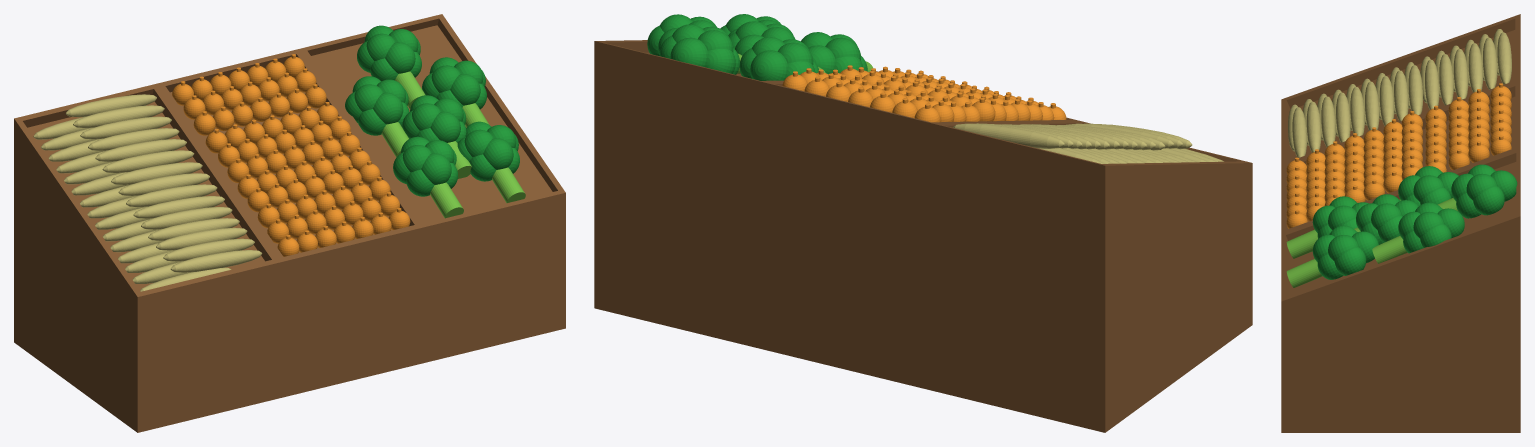
The model's file is fruit krat.fbx.
3 views of the same model, side by side, from view 1: azimuth 30°, elevation 25°; view 2: azimuth 150°, elevation 25°; view 3: azimuth 270°, elevation 25° (orthographic). The views are drawn at different scales.
Visible parts, largest first — view 1: Cube, Cylinder.029, Cylinder, brogle, brogle.001, brogle.003, brogle.005, brogle.002, brogle.004, Sphere.077, Sphere.055, Sphere.054 (+5 smaller); view 2: Cube, Cylinder.029, brogle.005, brogle.003, Sphere.077, Cylinder, brogle, Sphere.055, brogle.002, brogle.004; view 3: Cube, Cylinder.029, brogle.001, brogle.004, brogle.005, Cylinder, brogle, brogle.002, brogle.003, Sphere.077, Sphere.054, Sphere.055 (+8 smaller).
Part boxes in pixels (box(x1,y1,x2,y2)): Cube: box(14, 14, 565, 432); Cylinder.029: box(65, 94, 262, 272); Cylinder: box(33, 117, 231, 291); brogle: box(393, 136, 463, 218); brogle.001: box(457, 121, 525, 202); brogle.003: box(345, 76, 409, 157); brogle.005: box(357, 25, 425, 108); brogle.002: box(402, 95, 471, 178); brogle.004: box(422, 57, 488, 127); Sphere.077: box(172, 54, 304, 105); Sphere.055: box(183, 95, 259, 198); Sphere.054: box(202, 90, 278, 193); Cube: box(594, 40, 1252, 432); Cylinder.029: box(953, 123, 1192, 150); brogle.005: box(659, 24, 741, 74); brogle.003: box(739, 37, 825, 80); Sphere.077: box(782, 71, 940, 122); Cylinder: box(1040, 148, 1223, 163); brogle: box(801, 32, 872, 74); Sphere.055: box(932, 97, 1018, 122); brogle.002: box(729, 21, 795, 55); brogle.004: box(647, 14, 716, 55); Cube: box(1281, 14, 1520, 432); Cylinder.029: box(1292, 32, 1511, 157); brogle.001: box(1286, 225, 1378, 287); brogle.004: box(1372, 202, 1464, 263); brogle.005: box(1437, 164, 1517, 218); Cylinder: box(1288, 29, 1502, 151); brogle: box(1286, 196, 1368, 258); brogle.002: box(1354, 194, 1418, 244); brogle.003: box(1398, 166, 1458, 205); Sphere.077: box(1490, 83, 1511, 155); Sphere.054: box(1363, 97, 1489, 152); Sphere.055: box(1363, 89, 1489, 143).
Size of the model in its own units: 200 by 106 by 100.
